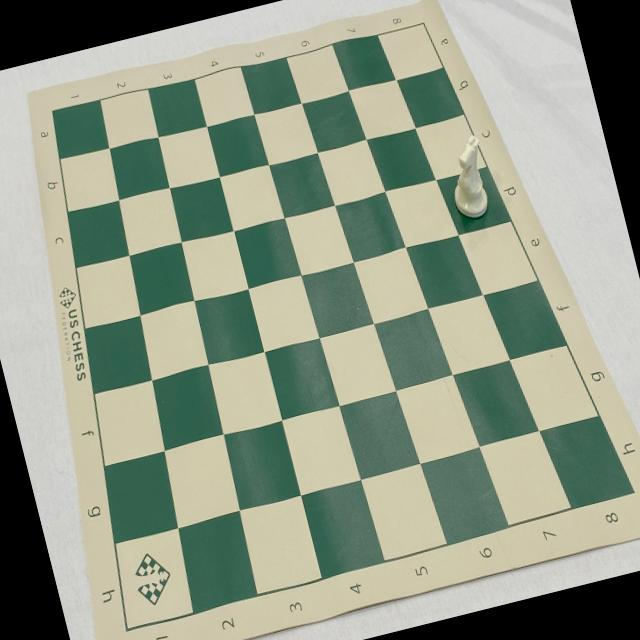white-knight: (440, 132, 498, 222)
